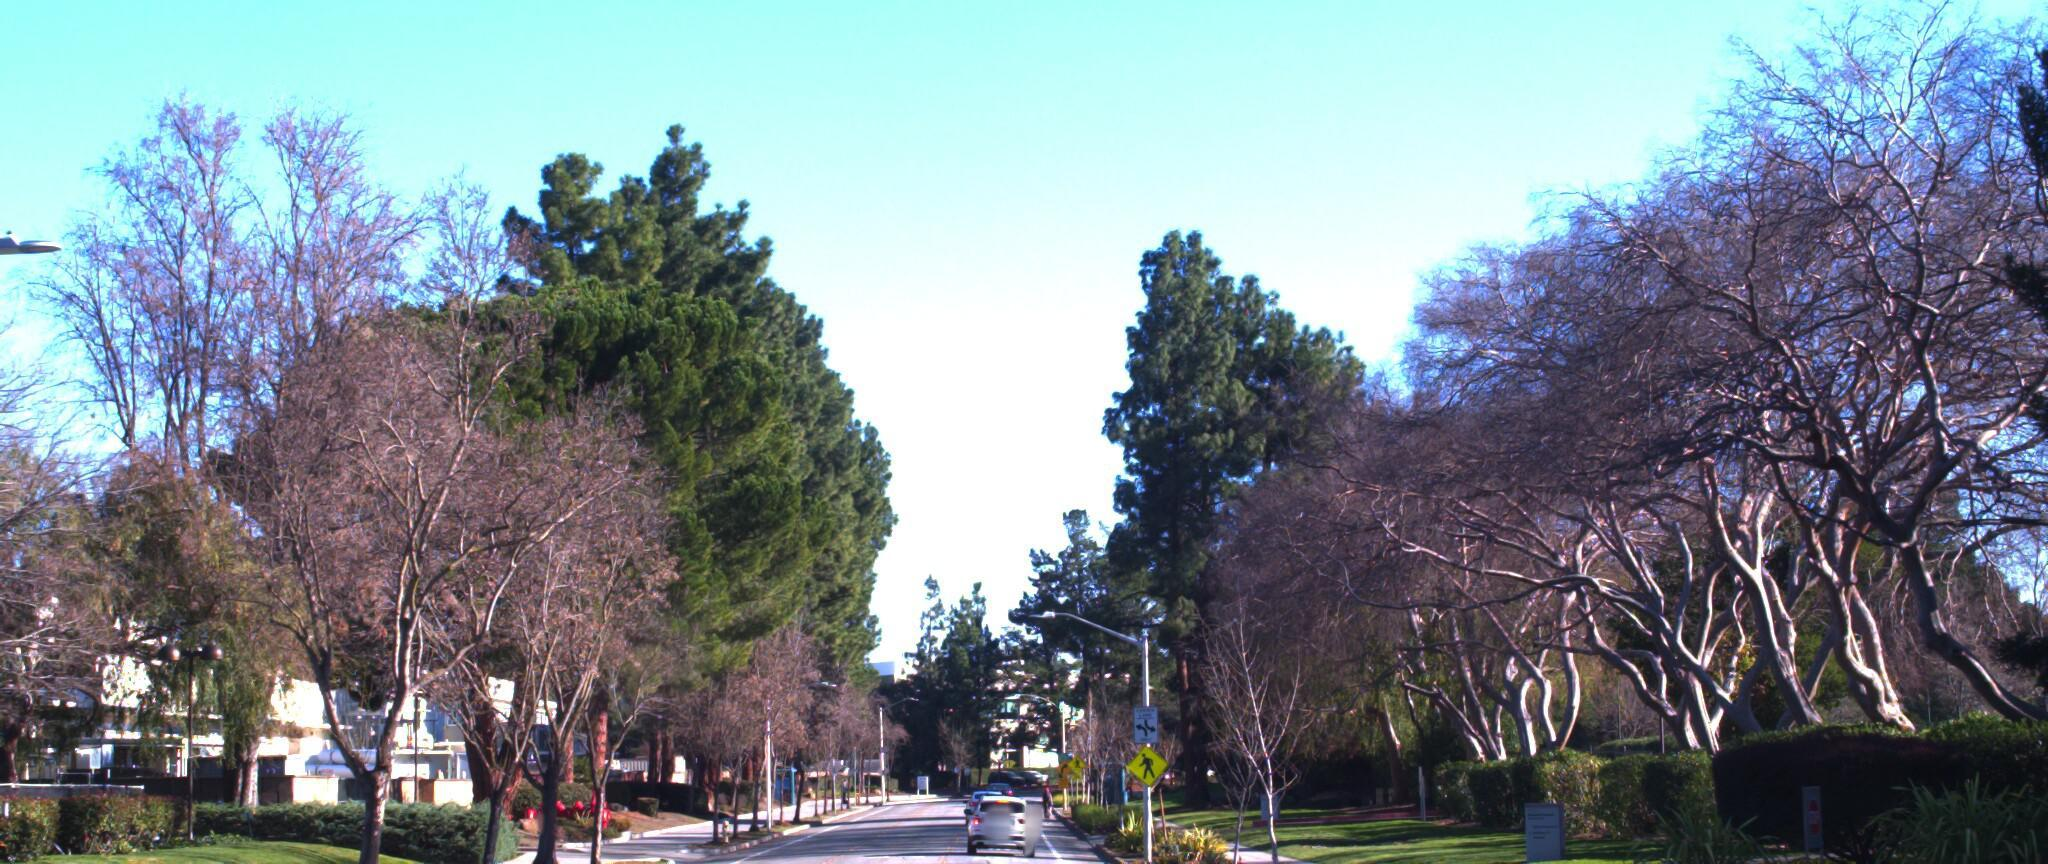car: (970, 771, 1037, 835)
